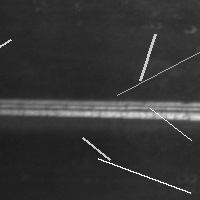scratches: (1, 90, 199, 124), (112, 47, 200, 100), (93, 153, 195, 197), (145, 103, 196, 145), (135, 29, 160, 85), (78, 133, 115, 165), (0, 35, 15, 72)
